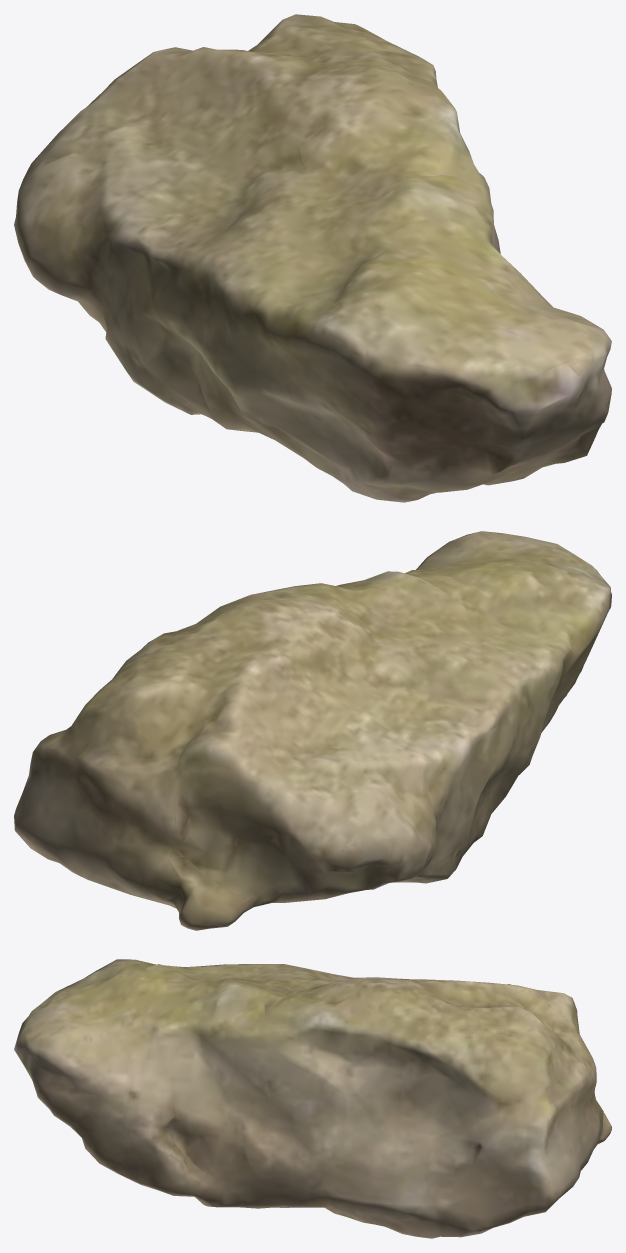
Rendered from rock-moss-c.glb.
The picture shows the model from 3 angles, top to bottom: view 1: azimuth 30°, elevation 25°; view 2: azimuth 150°, elevation 25°; view 3: azimuth 270°, elevation 25°; orthographic projection. The views are drawn at different scales.
Visible parts, largest first — view 1: low; view 2: low; view 3: low.
Boxes of the visible parts, <box> form: low: <box>14,14,611,502</box>; low: <box>14,531,611,930</box>; low: <box>14,959,611,1238</box>.
Size of the model in its own units: 1.51 by 1 by 2.49.
1 material, 1 textured.
